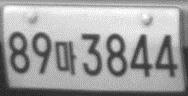3: (80, 33, 103, 77)
4: (155, 35, 179, 79), (130, 34, 153, 78)
8: (7, 30, 31, 73), (105, 33, 128, 77)
9: (30, 31, 53, 74)
마: (54, 40, 78, 75)
